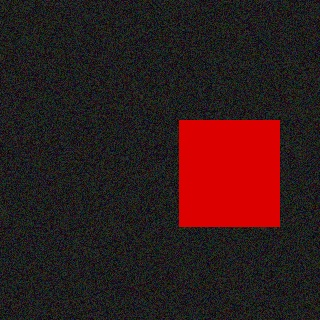red_barrel: (180, 121, 279, 227)
